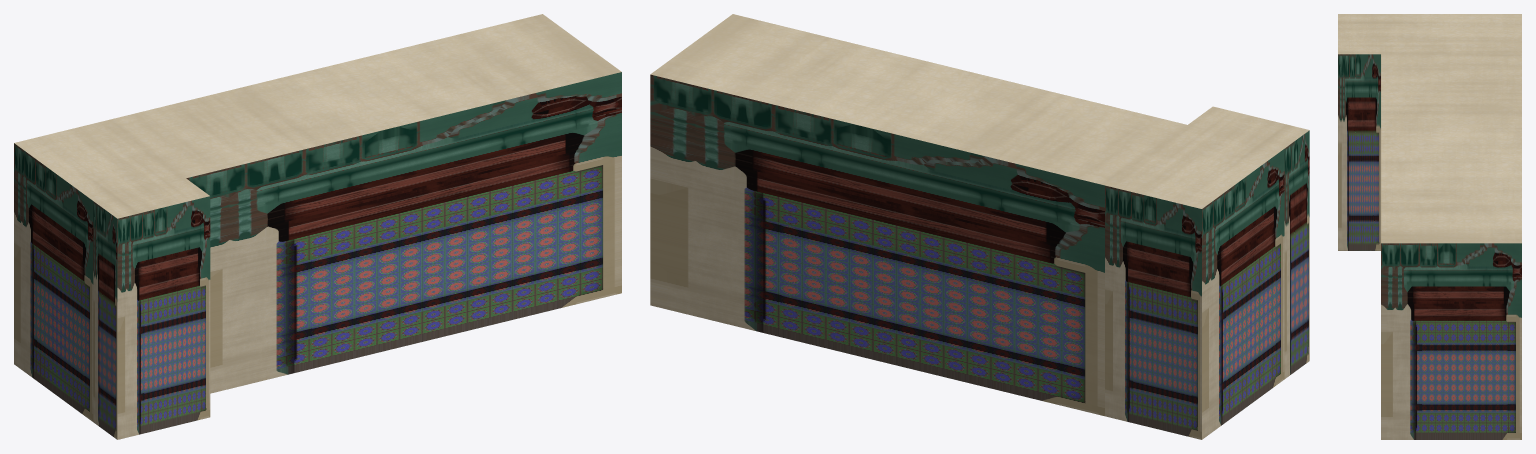
The model's file is TraditionalKoreanHouse_CellingPassageShadowOnly.fbx.
3 renders of one model, left to right at view 1: azimuth 30°, elevation 25°; view 2: azimuth 150°, elevation 25°; view 3: azimuth 270°, elevation 25°, orthographic. The views are drawn at different scales.
Visible parts, largest first — view 1: TraditionalKoreanHouse_CellingPassageShadowOnly; view 2: TraditionalKoreanHouse_CellingPassageShadowOnly; view 3: TraditionalKoreanHouse_CellingPassageShadowOnly.
Part boxes in pixels (bbox=[...]): TraditionalKoreanHouse_CellingPassageShadowOnly: bbox=[14, 14, 621, 439]; TraditionalKoreanHouse_CellingPassageShadowOnly: bbox=[650, 14, 1309, 439]; TraditionalKoreanHouse_CellingPassageShadowOnly: bbox=[1338, 14, 1521, 439].
Size of the model in its own units: 684 by 273 by 232.
